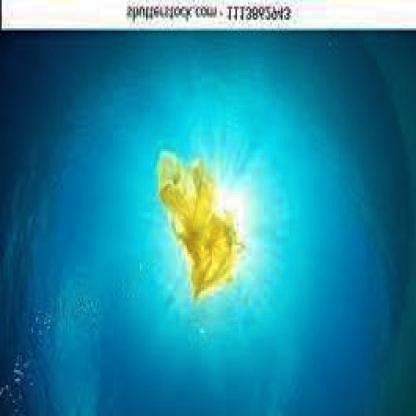pbag: (157, 149, 243, 300)
